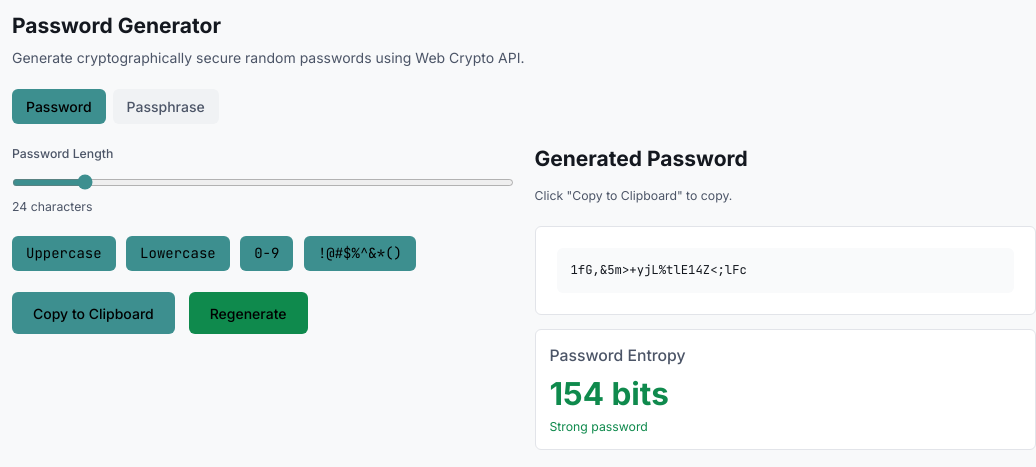
Scenario: PasswordGenerator › switching to Passphrase mode hides character pool toggles
The image size is (1036, 467).
Click the button "Passphrase" at (166, 106), box [113,89,219,124]
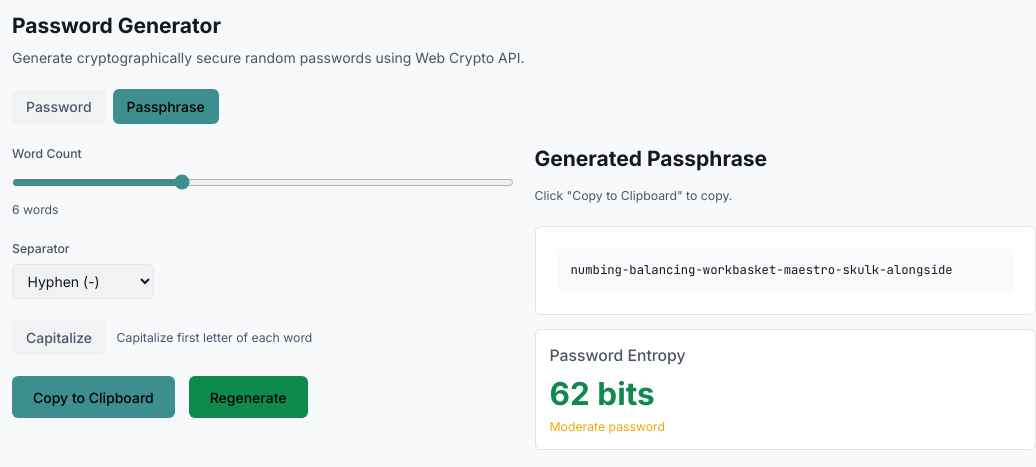
Expected: the button "Uppercase" is gone
